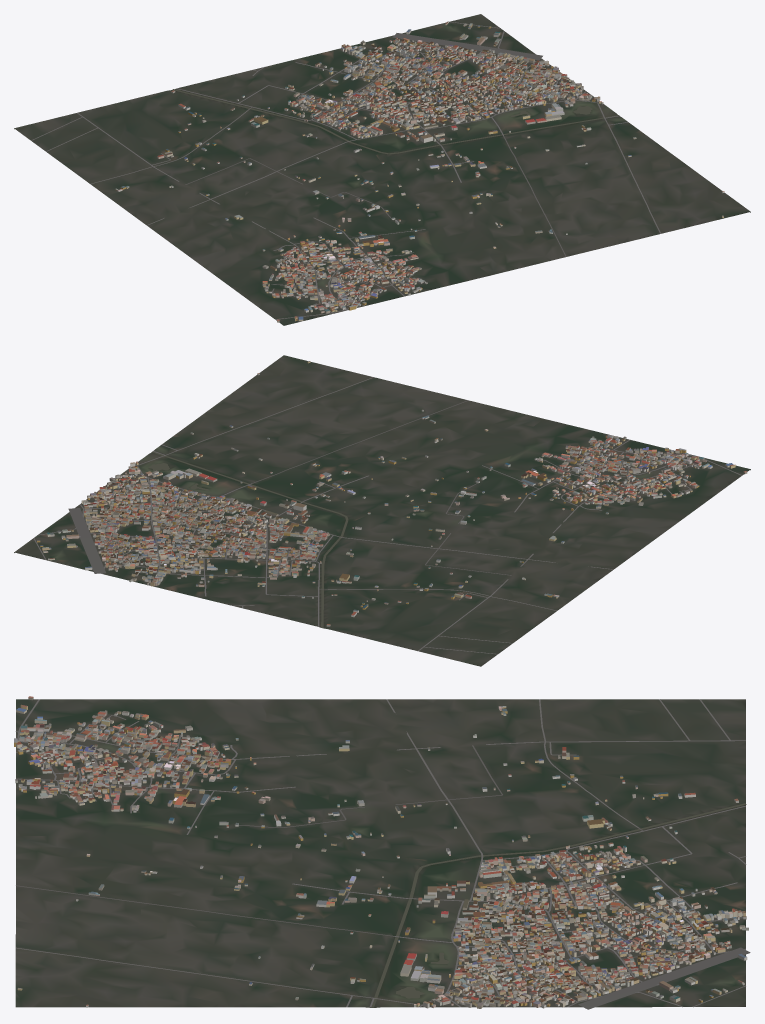
3 views of the same model, one above another, from view 1: azimuth 30°, elevation 25°; view 2: azimuth 150°, elevation 25°; view 3: azimuth 270°, elevation 25° (orthographic). The views are drawn at different scales.
Parts seen in each view (by area): view 1: ground, buildings, roads, water; view 2: ground, buildings, roads, water; view 3: ground, buildings, roads, water.
Part boxes in pixels (left/top/right/bottom): ground: left=14, top=14, right=750, bottom=325; buildings: left=115, top=21, right=724, bottom=322; roads: left=31, top=21, right=661, bottom=319; water: left=172, top=89, right=618, bottom=154; ground: left=14, top=355, right=750, bottom=666; buildings: left=37, top=361, right=747, bottom=626; roads: left=33, top=377, right=742, bottom=654; water: left=149, top=451, right=348, bottom=627; ground: left=15, top=699, right=745, bottom=1007; buildings: left=14, top=696, right=748, bottom=1008; roads: left=15, top=699, right=750, bottom=1009; water: left=371, top=803, right=746, bottom=1007.
Bounding box in the file's own units: 1417 × 17.6 × 1415.
